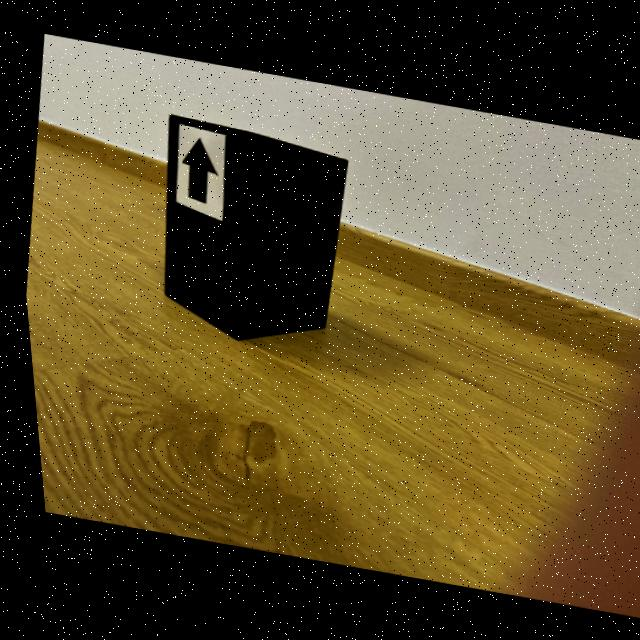UP: (180, 137, 213, 205)
